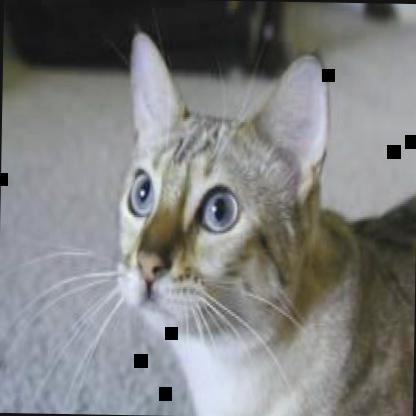cat: (112, 30, 415, 415)
